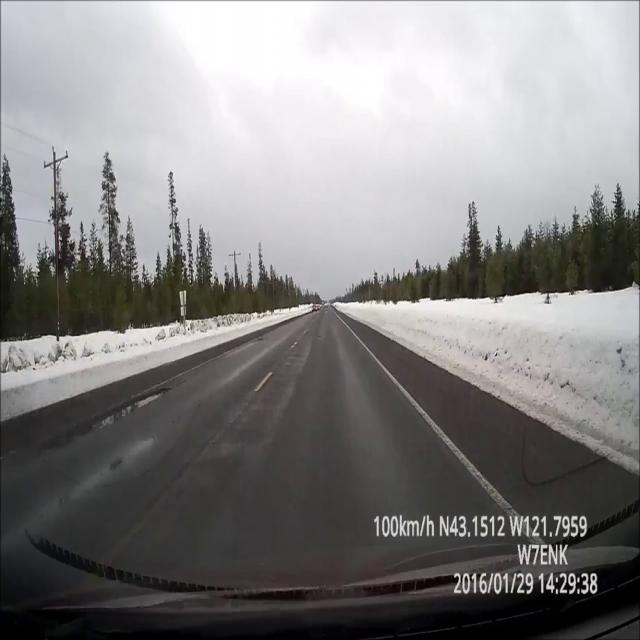Pothole: (87, 387, 169, 442), (258, 338, 264, 342)
